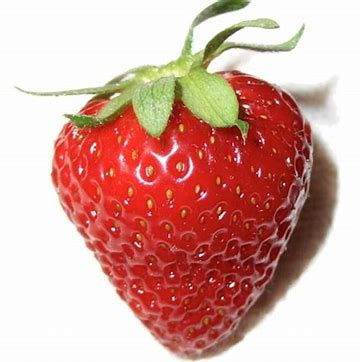strawberry: (50, 47, 317, 362)
